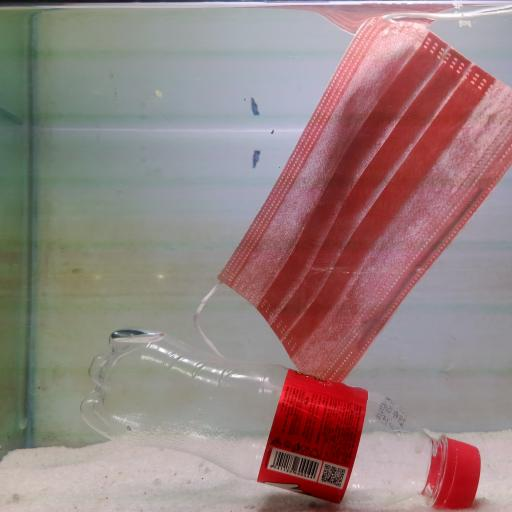bottle_cap: (437, 432, 491, 512)
mask: (192, 12, 508, 384)
plastic_bottle: (77, 325, 485, 512)
